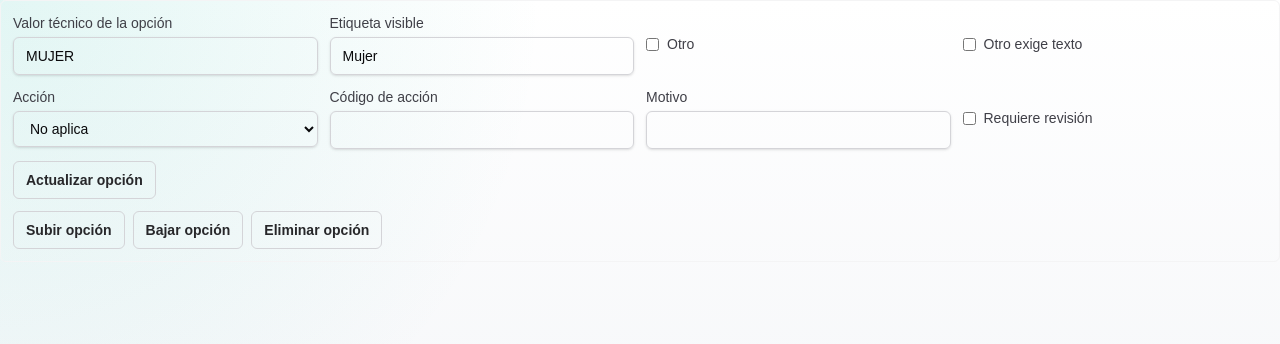
it: OptionEditForm › conserva valores escritos si el servidor devuelve error
Select "Terminar filtro" in the dropdown labelled "Acción". click: (165, 129)
box: 13,111 -> 318,147
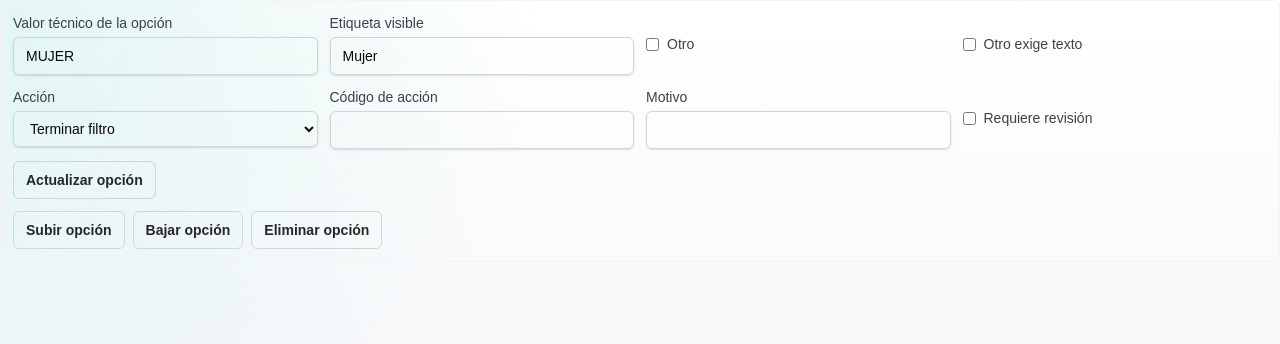
Type "GENERO_NO_ELEGIBLE" into the field labelled "Código de acción". click: (482, 130)
box: 330,111 -> 634,149
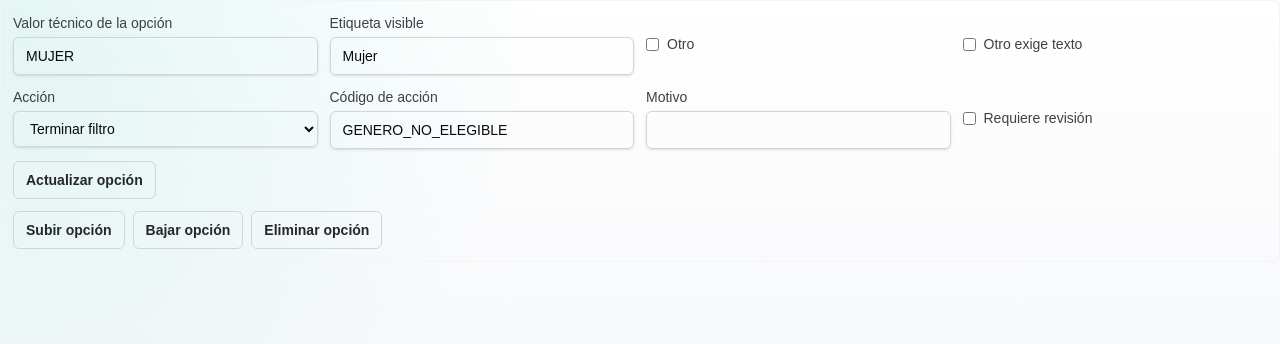
Type "El estudio está dirigido a hombres." into the field labelled "Motivo". click: (798, 130)
box: 646,111 -> 950,149
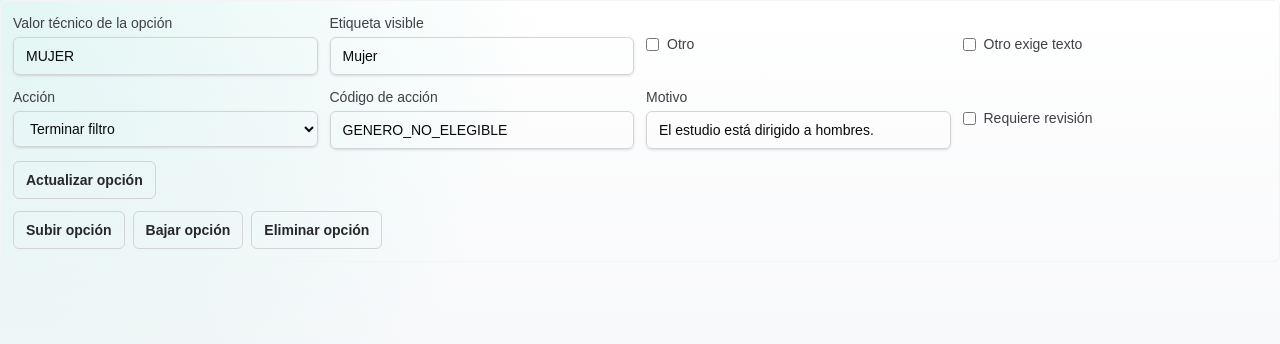
Click the button "Actualizar opción". click: click(84, 180)
box: 13,161 -> 156,199
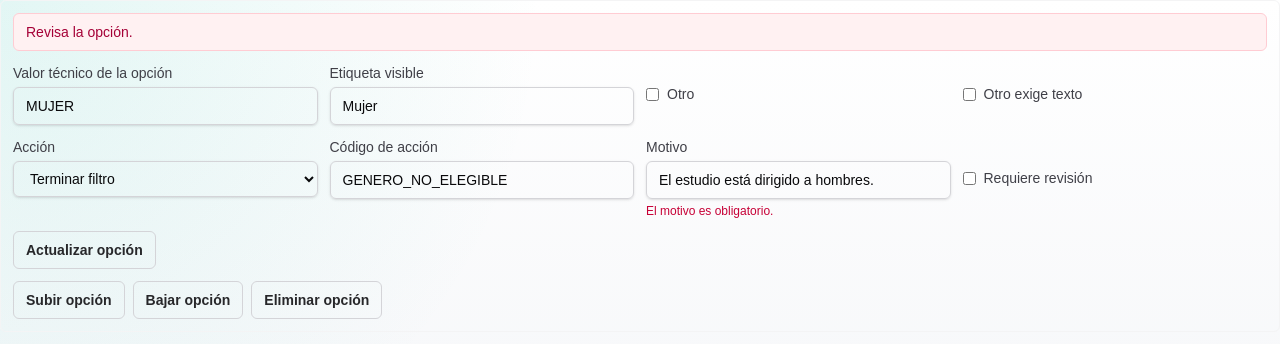
Check: the message reads "Revisa la opción.", box 26,24 -> 133,40
Check: the text "El motivo es obligatorio." is shown, box 646,204 -> 773,218
